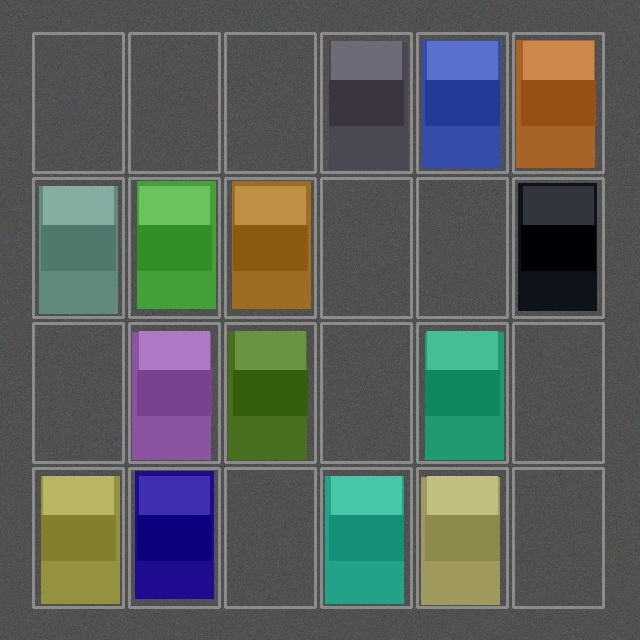space-empty: (35, 35, 121, 170), (131, 35, 217, 170), (227, 35, 313, 170), (323, 180, 409, 315), (419, 180, 505, 315), (35, 325, 121, 460), (323, 325, 409, 460), (515, 325, 601, 460), (227, 470, 313, 605), (515, 470, 601, 605)
space-occupied: (323, 35, 409, 170), (419, 35, 505, 170), (515, 35, 601, 170), (35, 180, 121, 315), (131, 180, 217, 315), (227, 180, 313, 315), (515, 180, 601, 315), (131, 325, 217, 460), (227, 325, 313, 460), (419, 325, 505, 460), (35, 470, 121, 605), (131, 470, 217, 605), (323, 470, 409, 605), (419, 470, 505, 605)
